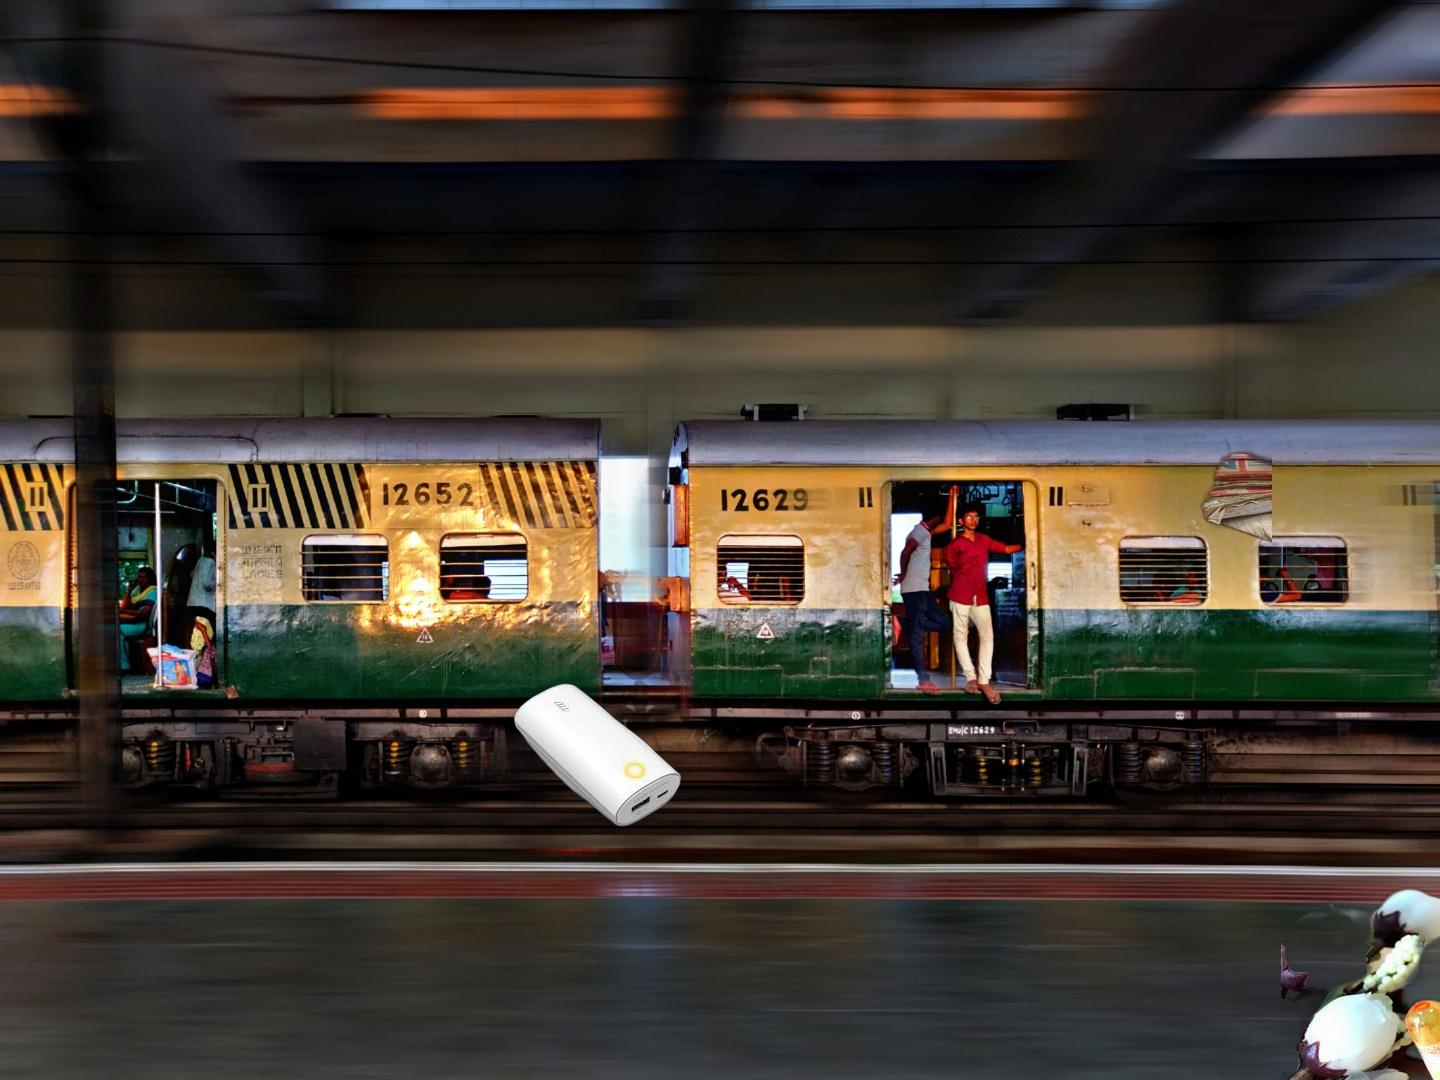battery: (511, 681, 684, 829)
penholder: (1281, 794, 1440, 1080)
trashbox-cardboard: (921, 430, 1272, 644)
